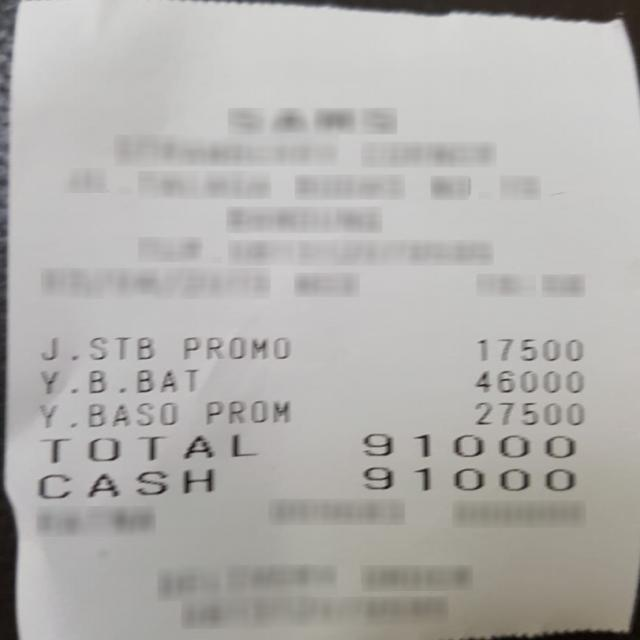text: (38, 433, 260, 462), (361, 466, 574, 492), (35, 468, 213, 499), (361, 433, 574, 457), (38, 367, 196, 393), (38, 401, 175, 427), (40, 335, 153, 359), (474, 402, 583, 425), (181, 335, 289, 358), (476, 338, 581, 360), (474, 370, 582, 391), (204, 398, 288, 422)
